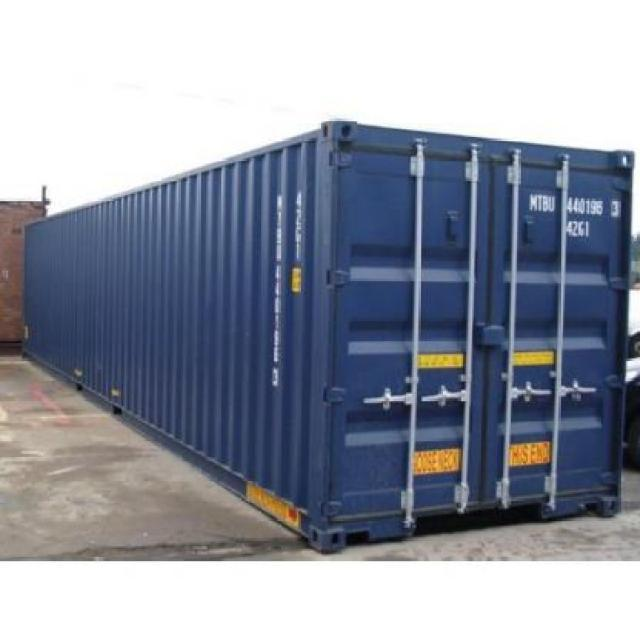ISO: (565, 218, 594, 236)
container_number: (526, 195, 622, 216)
